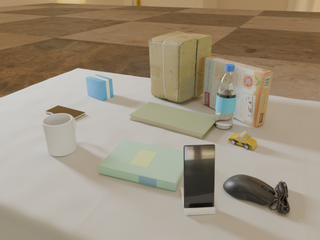book: (98, 140, 184, 191), (129, 102, 216, 139)
bottle: (215, 64, 237, 129)
box: (203, 57, 273, 127), (149, 31, 212, 102), (86, 75, 113, 101)
cup: (42, 113, 77, 156)
mouse: (223, 175, 290, 214)
phone: (183, 144, 215, 208), (45, 105, 85, 119)
toy_car: (228, 131, 257, 149)
